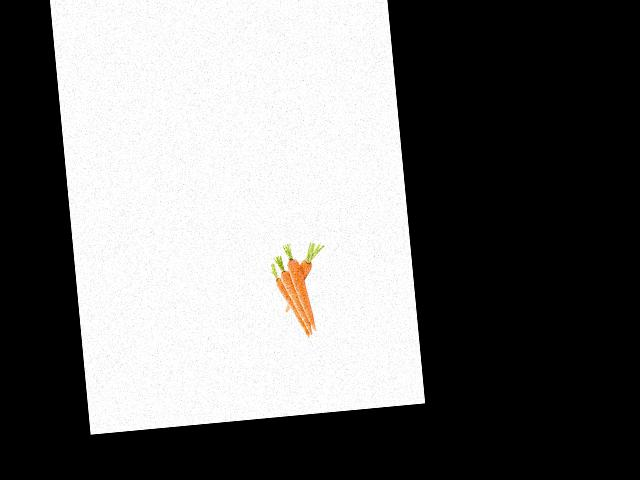carrot: (294, 249, 321, 283)
